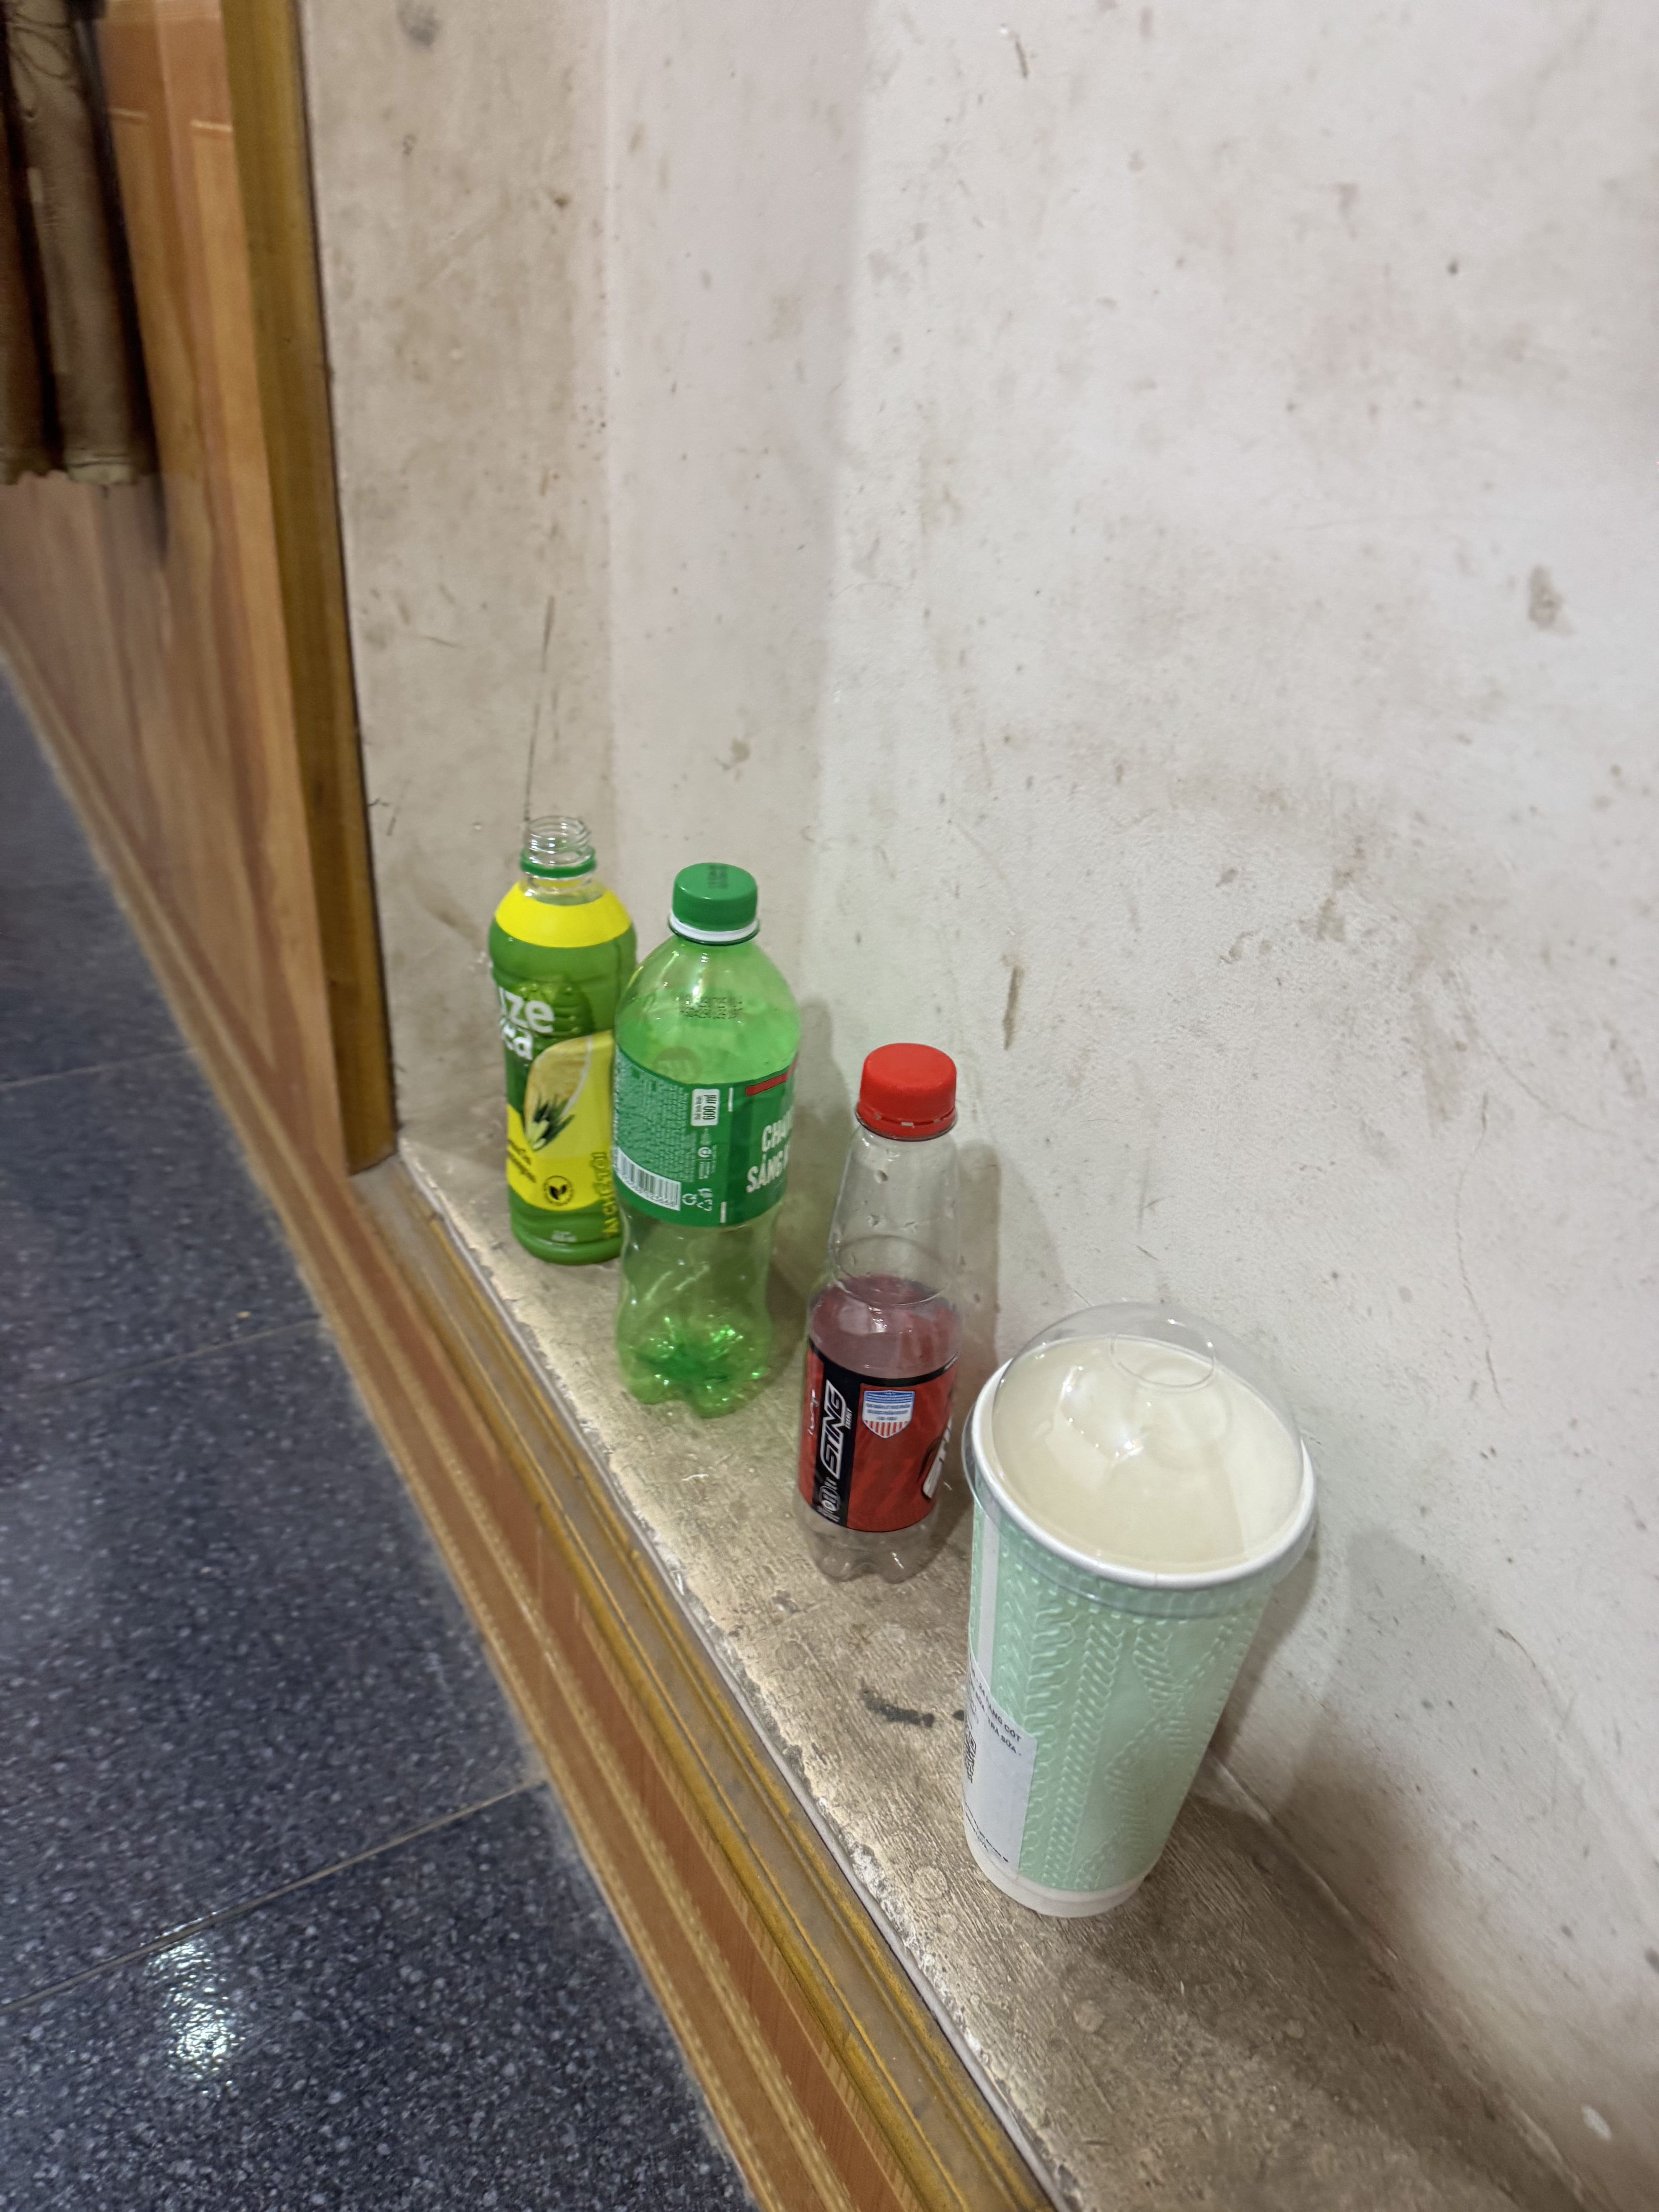2: (887, 1282, 1358, 1958)
bottle: (756, 1031, 993, 1609), (589, 845, 812, 1432), (474, 798, 660, 1287)
